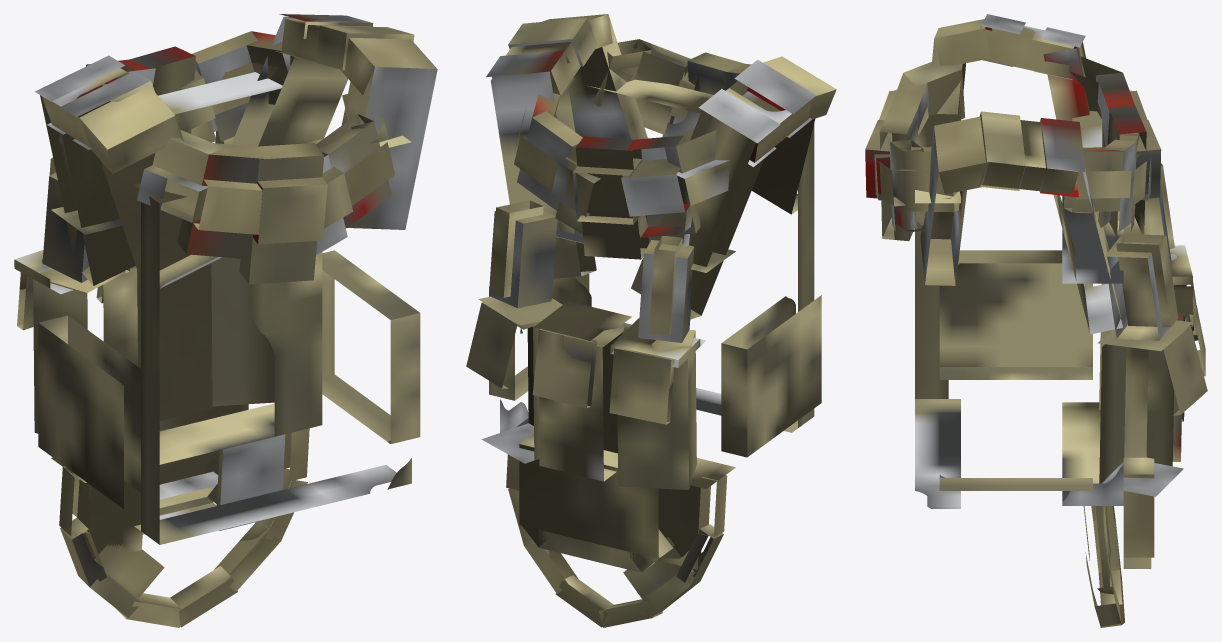
The model's file is vanderer.obj.
The picture shows the model from 3 angles, left to right: view 1: azimuth 30°, elevation 25°; view 2: azimuth 150°, elevation 25°; view 3: azimuth 270°, elevation 25°; orthographic projection. The views are drawn at different scales.
Visible parts, largest first — view 1: vanderer; view 2: vanderer; view 3: vanderer.
Boxes of the visible parts, bbox=[...] form: vanderer: bbox=[14, 14, 437, 627]; vanderer: bbox=[466, 14, 836, 627]; vanderer: bbox=[865, 14, 1207, 627].
Bounding box in the file's own units: 0.7121 × 1.25 × 0.6983.
